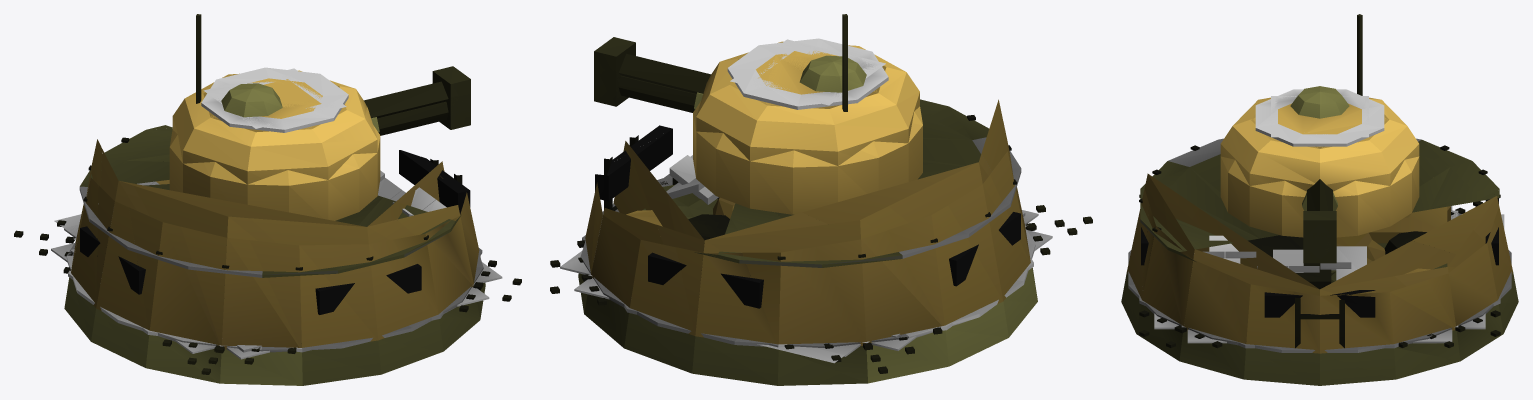
Rendered from meridian_defence_tower_heavily_damaged.glb.
3 renders of one model, left to right at view 1: azimuth 30°, elevation 25°; view 2: azimuth 150°, elevation 25°; view 3: azimuth 270°, elevation 25°, orthographic. The views are drawn at different scales.
Visible parts, largest first — view 1: body (×3), turret (×3), barrel (×2); view 2: body (×3), turret (×3), barrel (×2); view 3: body (×3), turret (×3), barrel (×2).
Boxes of the visible parts, x1,y1,x2,y2 form: body (×3): (14,125,521,385); turret (×3): (169,14,380,220); barrel (×2): (364,66,470,135); body (×3): (550,99,1092,385); turret (×3): (693,14,922,214); barrel (×2): (594,37,710,112); body (×3): (1121,138,1518,385); turret (×3): (1220,14,1419,237); barrel (×2): (1302,179,1337,263).
Bounding box in the file's own units: 3.63 × 2.62 × 3.6.
